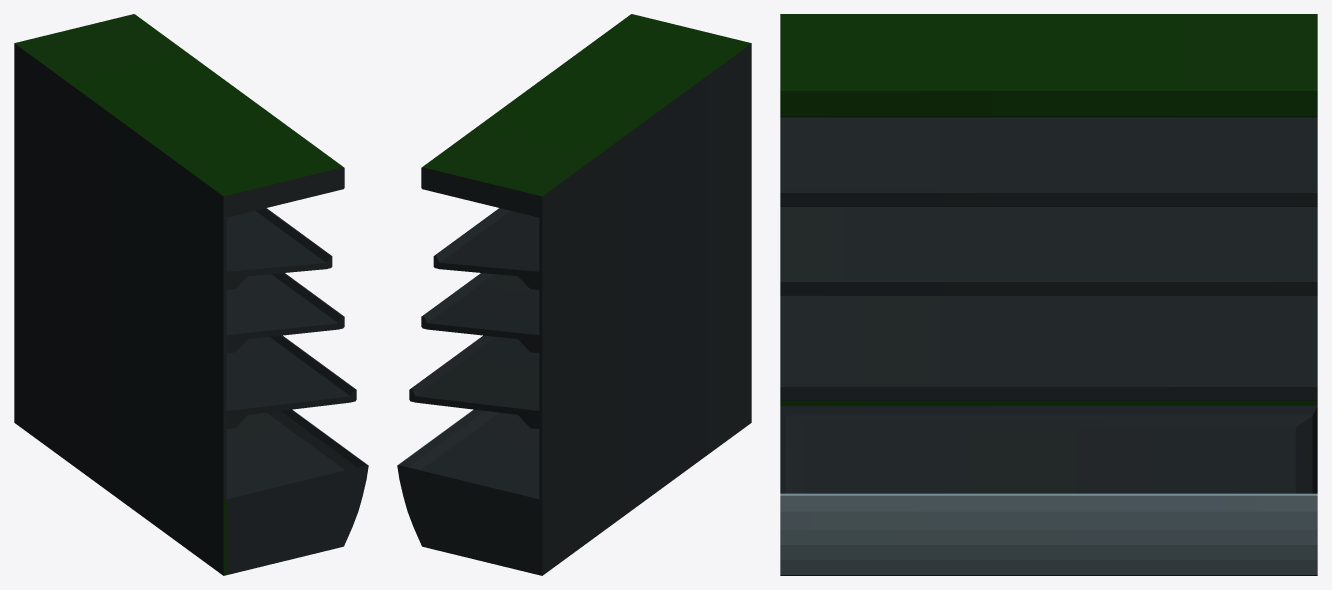
Rendered from Produce_3row_col.glb.
3 renders of one model, left to right at view 1: azimuth 30°, elevation 25°; view 2: azimuth 150°, elevation 25°; view 3: azimuth 270°, elevation 25°, orthographic. The views are drawn at different scales.
Visible parts, largest first — view 1: Produce_3row_col; view 2: Produce_3row_col; view 3: Produce_3row_col.
Part boxes in pixels (x1,y1,x2,y2): Produce_3row_col: [14, 14, 368, 575]; Produce_3row_col: [397, 14, 751, 575]; Produce_3row_col: [780, 14, 1317, 575].
Bounding box in the file's own units: 1.2 × 3 × 3.
1 material, 1 textured.
